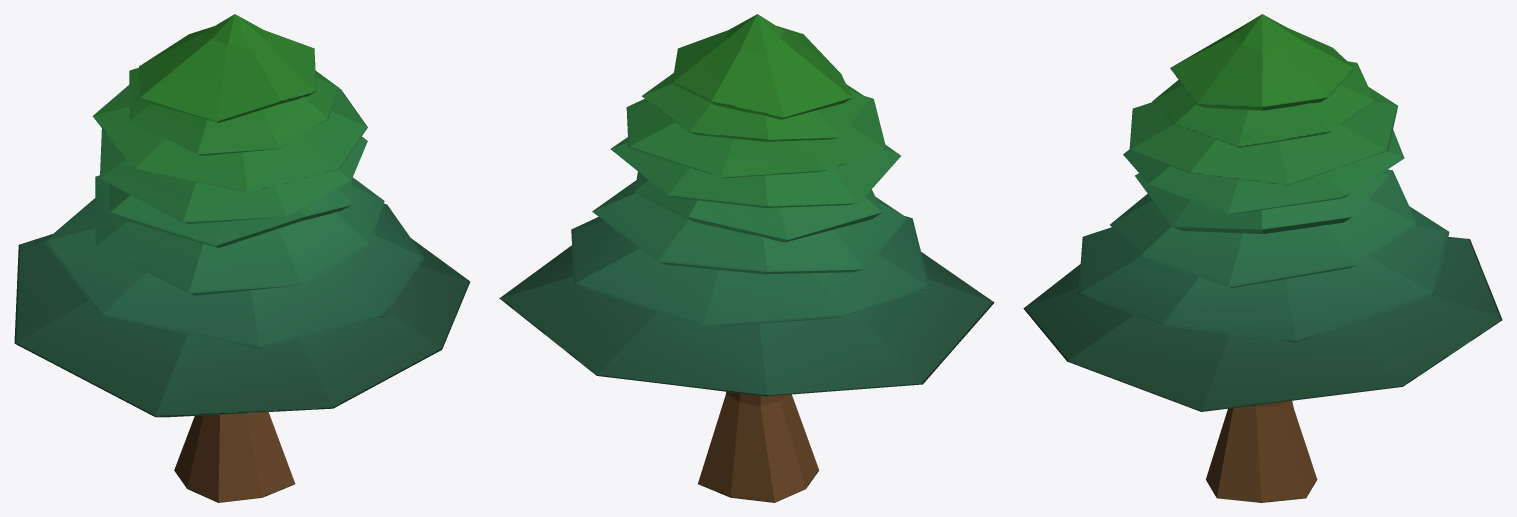
The model's file is PineTree_1.fbx.
3 renders of one model, left to right at view 1: azimuth 30°, elevation 25°; view 2: azimuth 150°, elevation 25°; view 3: azimuth 270°, elevation 25°, orthographic.
Parts seen in each view (by area): view 1: PineTree_1; view 2: PineTree_1; view 3: PineTree_1.
Part boxes in pixels (x1,y1,x2,y2): PineTree_1: (14,14,470,502); PineTree_1: (499,14,994,502); PineTree_1: (1023,14,1502,502).
Size of the model in its own units: 304 by 339 by 316.
1 material, 1 textured.
